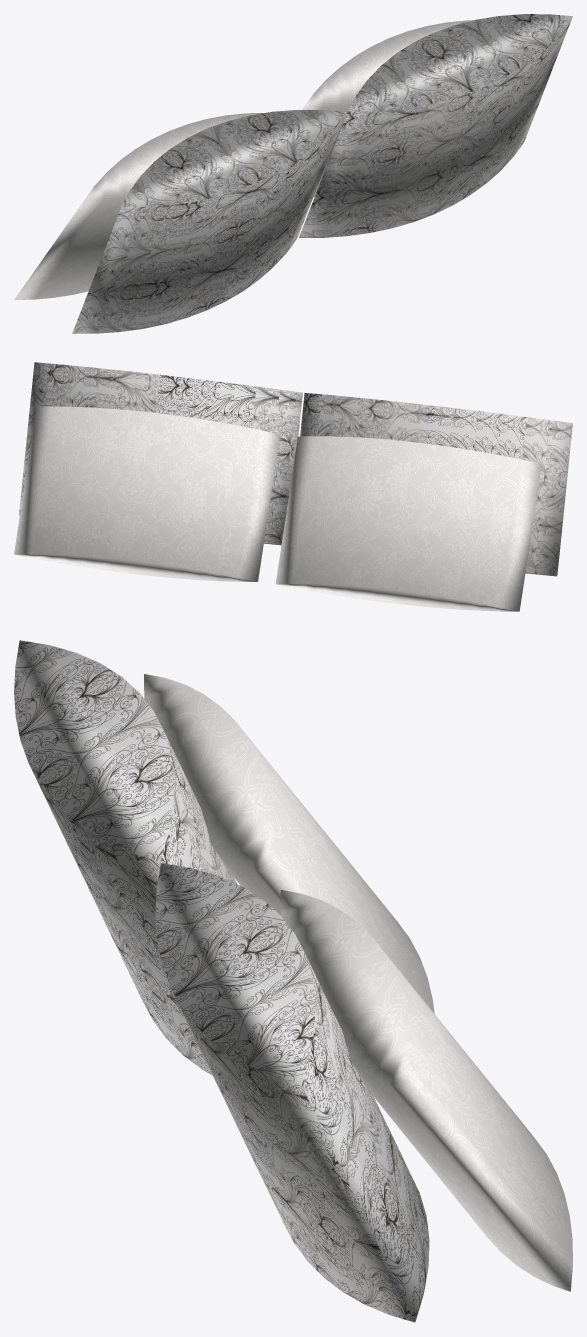
File: Proj_Headboard_asoWayfair.obj
3 renders of one model, top to bottom at view 1: azimuth 30°, elevation 25°; view 2: azimuth 150°, elevation 25°; view 3: azimuth 270°, elevation 25°, orthographic. The views are drawn at different scales.
Visible parts, largest first — view 1: Mesh1 Interior_Fabric_PillowEuro1_1 Interior_Fabric_BeddingQueen, Mesh2 Interior_Fabric_PillowEuro1_1 Interior_Fabric_BeddingQueen, Mesh3 Group_1_1 Interior_Fabric_BeddingQueenCompleteSet01_1 Grou, Mesh4 Group_2_1 Interior_Fabric_BeddingQueenCompleteSet01_1 Grou; view 2: Mesh3 Group_1_1 Interior_Fabric_BeddingQueenCompleteSet01_1 Grou, Mesh4 Group_2_1 Interior_Fabric_BeddingQueenCompleteSet01_1 Grou, Mesh2 Interior_Fabric_PillowEuro1_1 Interior_Fabric_BeddingQueen, Mesh1 Interior_Fabric_PillowEuro1_1 Interior_Fabric_BeddingQueen; view 3: Mesh1 Interior_Fabric_PillowEuro1_1 Interior_Fabric_BeddingQueen, Mesh2 Interior_Fabric_PillowEuro1_1 Interior_Fabric_BeddingQueen, Mesh4 Group_2_1 Interior_Fabric_BeddingQueenCompleteSet01_1 Grou, Mesh3 Group_1_1 Interior_Fabric_BeddingQueenCompleteSet01_1 Grou.
Boxes of the visible parts, x1,y1,x2,y2 form: Mesh1 Interior_Fabric_PillowEuro1_1 Interior_Fabric_BeddingQueen: (299,14,572,237); Mesh2 Interior_Fabric_PillowEuro1_1 Interior_Fabric_BeddingQueen: (72,110,345,333); Mesh3 Group_1_1 Interior_Fabric_BeddingQueenCompleteSet01_1 Grou: (14,113,263,299); Mesh4 Group_2_1 Interior_Fabric_BeddingQueenCompleteSet01_1 Grou: (302,20,472,197); Mesh3 Group_1_1 Interior_Fabric_BeddingQueenCompleteSet01_1 Grou: (275,436,541,611); Mesh4 Group_2_1 Interior_Fabric_BeddingQueenCompleteSet01_1 Grou: (14,406,279,581); Mesh2 Interior_Fabric_PillowEuro1_1 Interior_Fabric_BeddingQueen: (300,393,572,576); Mesh1 Interior_Fabric_PillowEuro1_1 Interior_Fabric_BeddingQueen: (19,362,302,545); Mesh1 Interior_Fabric_PillowEuro1_1 Interior_Fabric_BeddingQueen: (155,863,429,1322); Mesh2 Interior_Fabric_PillowEuro1_1 Interior_Fabric_BeddingQueen: (14,640,236,1075); Mesh4 Group_2_1 Interior_Fabric_BeddingQueenCompleteSet01_1 Grou: (280,890,572,1291); Mesh3 Group_1_1 Interior_Fabric_BeddingQueenCompleteSet01_1 Grou: (144,674,434,1013).
Size of the model in its own units: 73.09 by 22.95 by 37.26.
